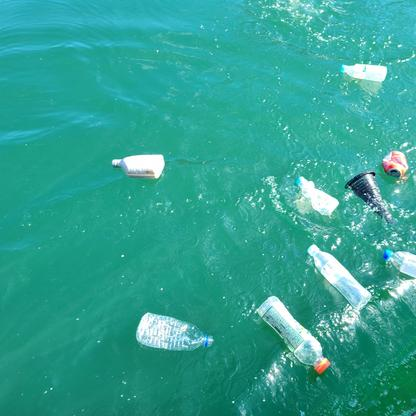can: (382, 151, 409, 176)
plastic bottle: (257, 295, 331, 375), (307, 244, 373, 310), (136, 312, 215, 349), (296, 177, 339, 214), (111, 156, 167, 178), (339, 63, 388, 82), (385, 249, 416, 277)
